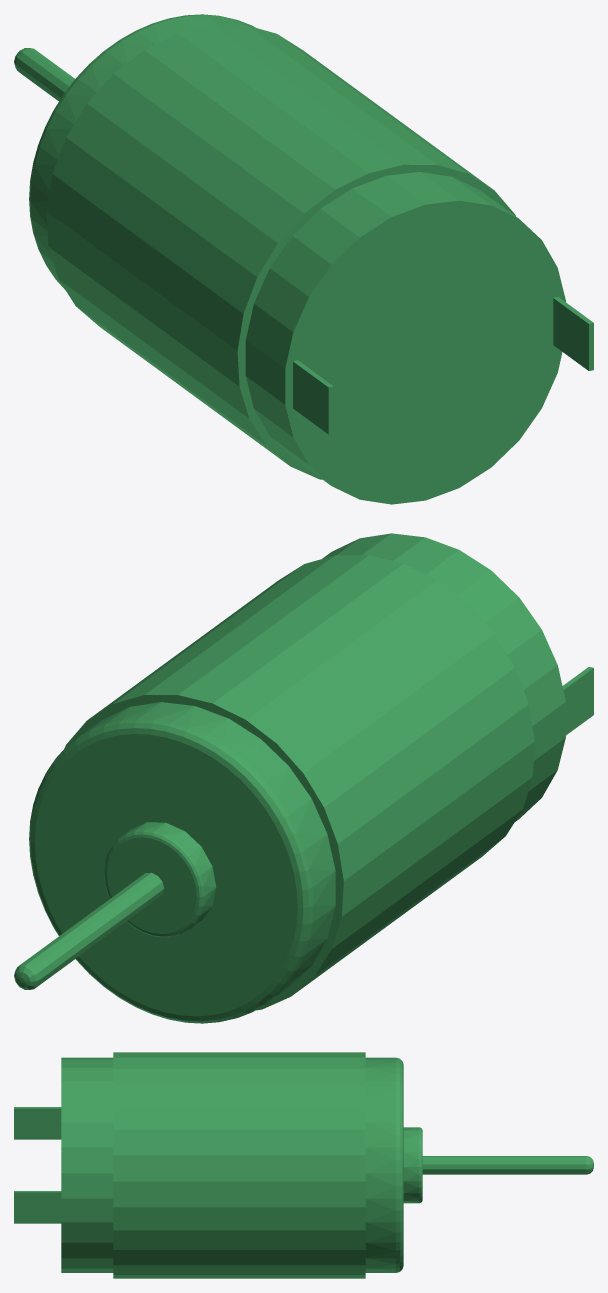
The model's file is motor_v1.dae.
3 views of the same model, one above another, from view 1: azimuth 30°, elevation 25°; view 2: azimuth 150°, elevation 25°; view 3: azimuth 270°, elevation 25° (orthographic). The views are drawn at different scales.
Parts seen in each view (by area): view 1: motor; view 2: motor; view 3: motor.
Part boxes in pixels (x1,y1,x2,y2): motor: [14, 14, 593, 504]; motor: [14, 533, 593, 1023]; motor: [14, 1052, 593, 1278].
Bounding box in the file's own units: 0.0377 × 0.0965 × 0.0377.
